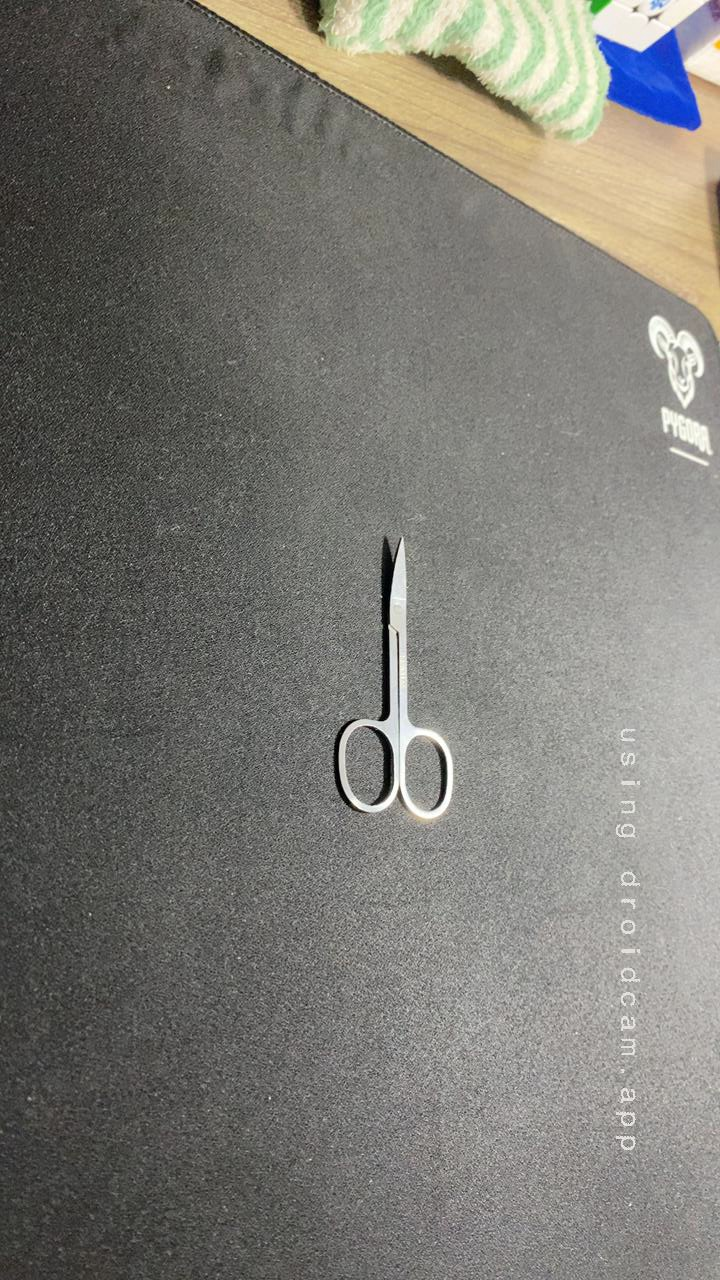scissor: (303, 522, 477, 833)
